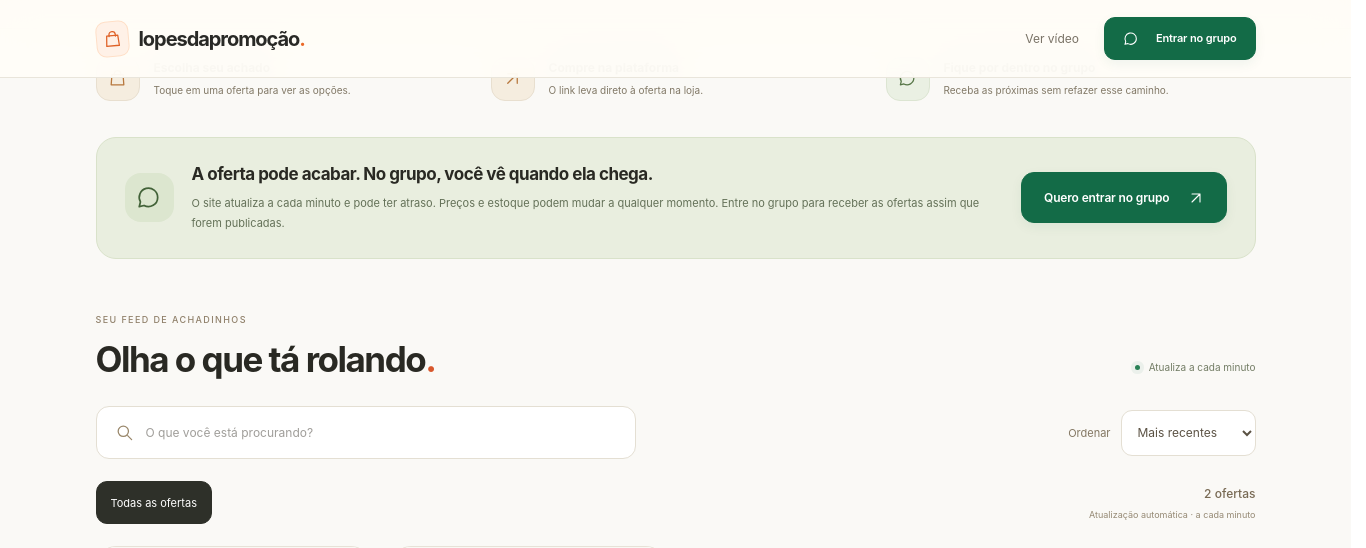
Test case: personalized group journey › filters the entire storefront for Homem with recent sorting, including featured and search results
(page scrolled)
Step 1. Select "Mais recentes" in the dropdown named "Ordenar ofertas" → coordinates (1188, 433), box left=1120, top=410, right=1256, bottom=456
Step 2. Type "feminino" into the search field → coordinates (381, 433), box left=146, top=424, right=616, bottom=442
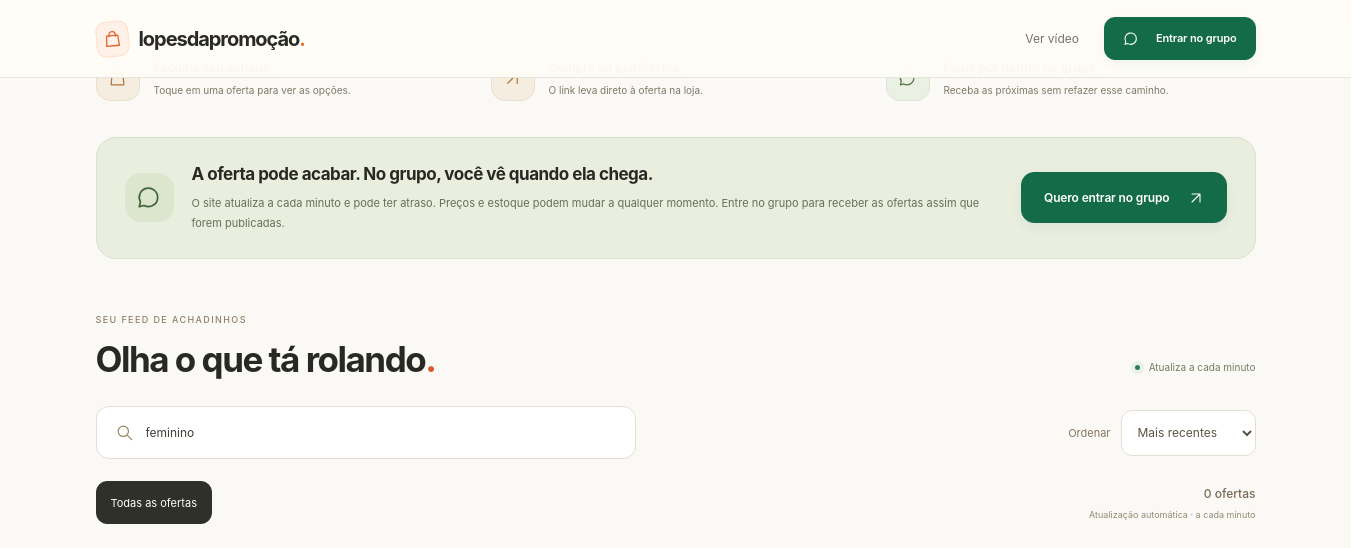
expect no elements with class "shop-product" are shown: met
